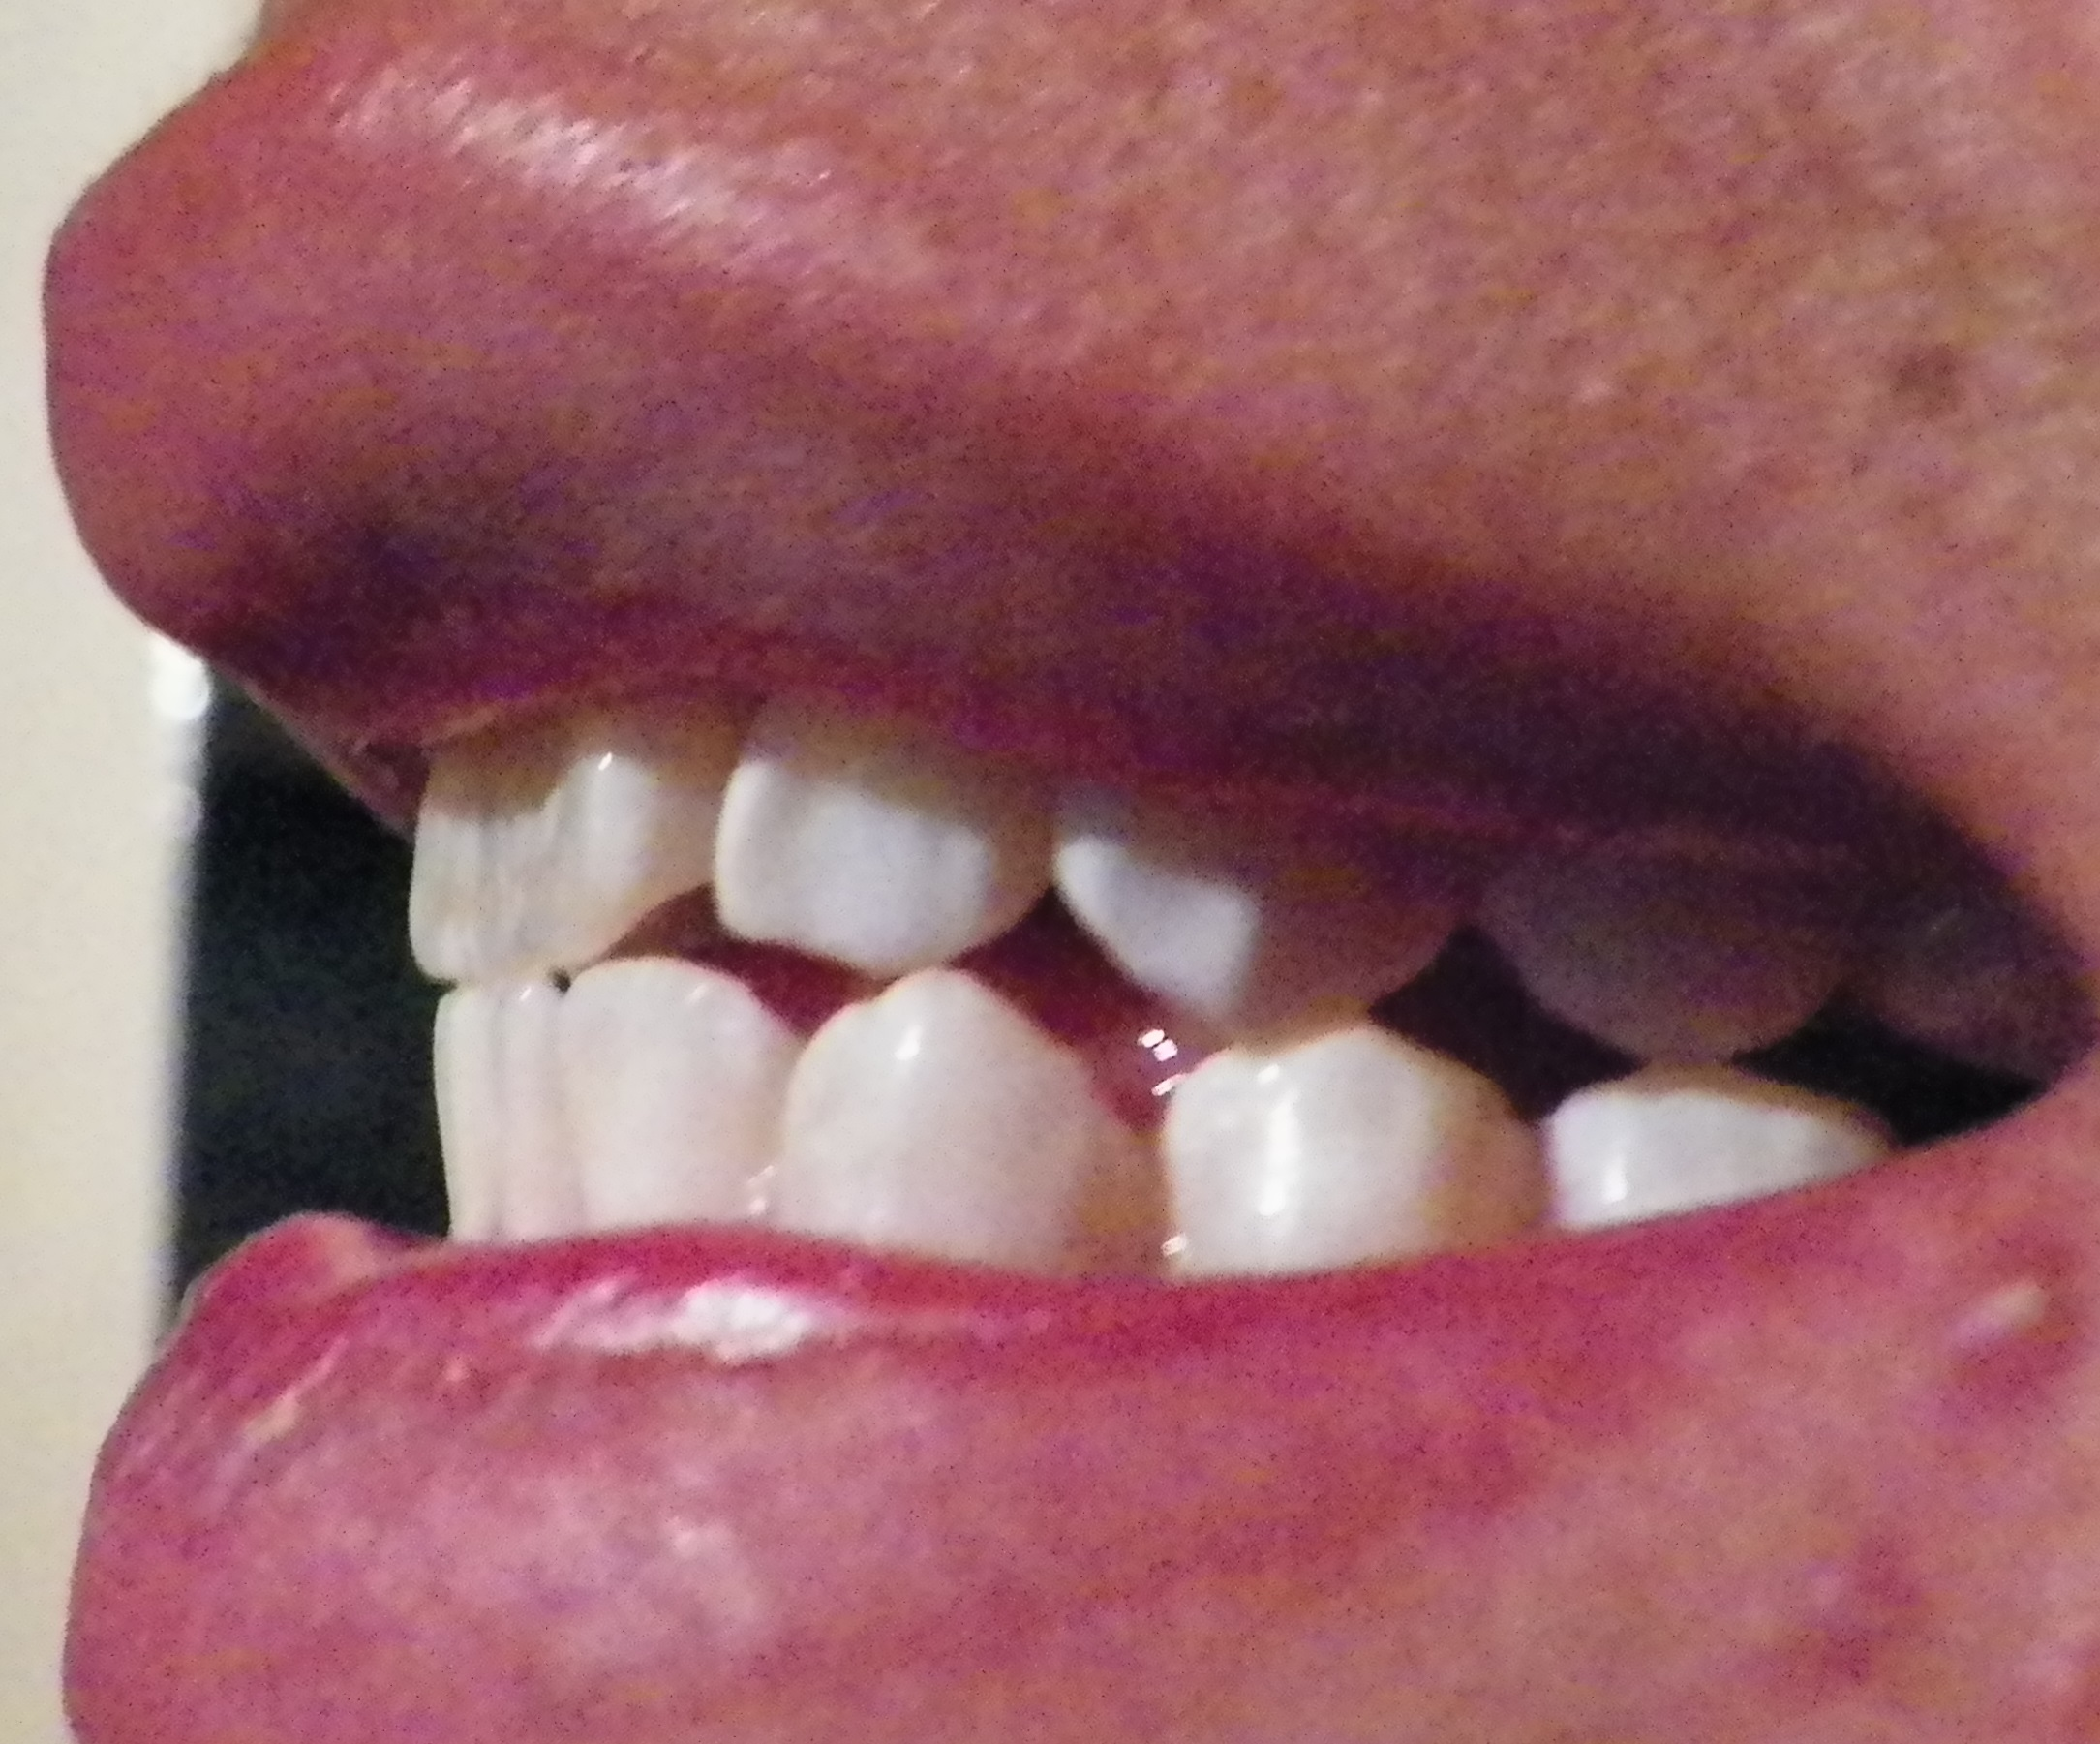boca: (396, 719, 1985, 1261)
